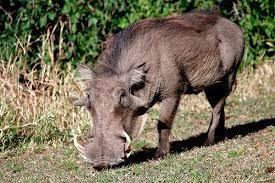wildboar: (70, 9, 248, 171)
